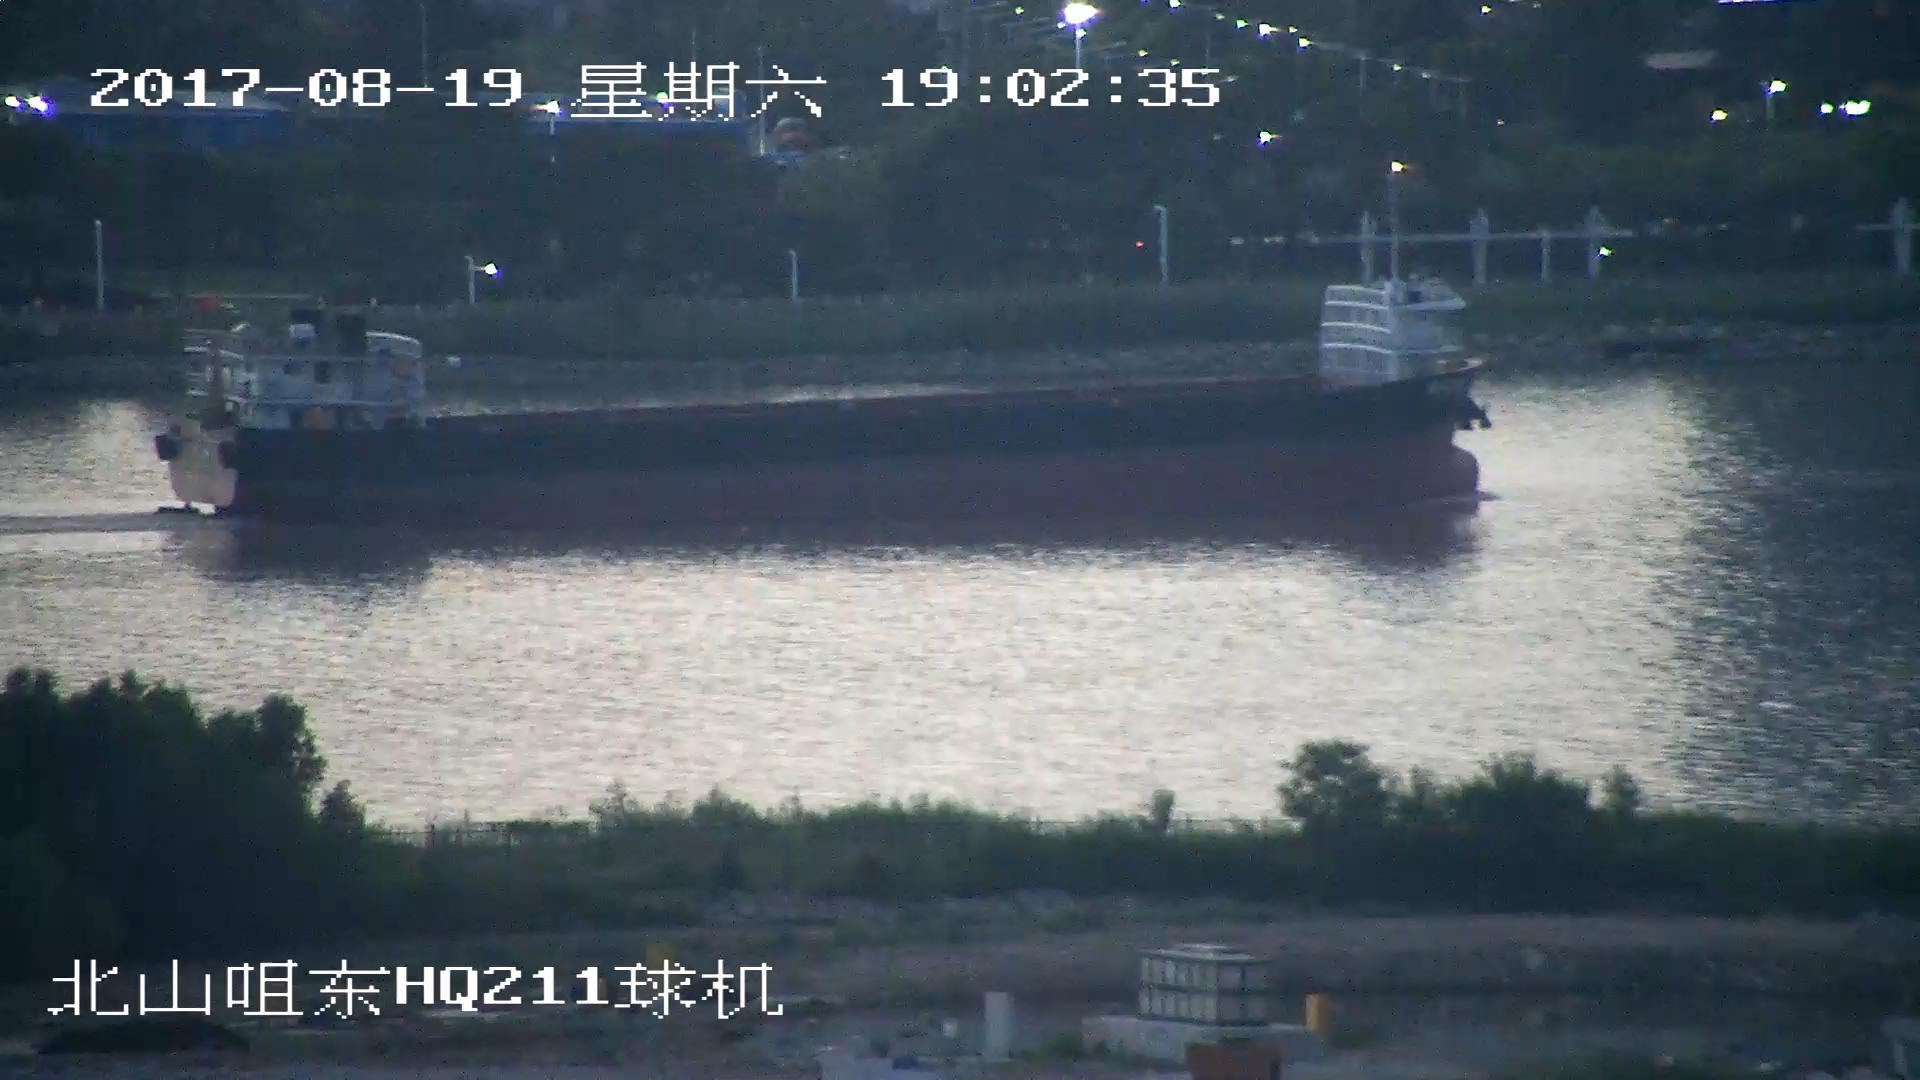Ship: (164, 257, 1487, 520)
